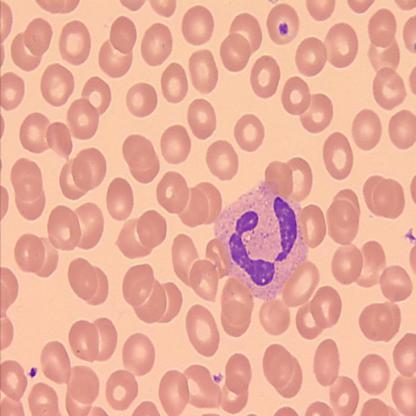Segmented neutrophil: (212, 182, 311, 304)
